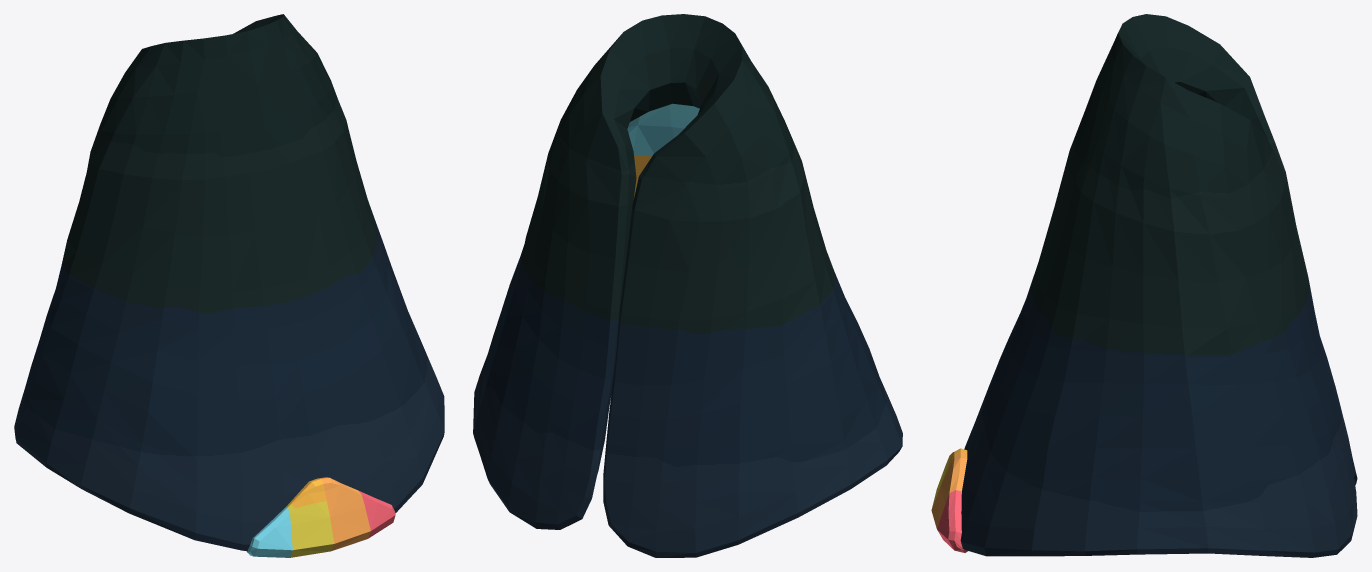
The model's file is CharSkyKid_Wing_DarkRainbow.glb.
3 renders of one model, left to right at view 1: azimuth 30°, elevation 25°; view 2: azimuth 150°, elevation 25°; view 3: azimuth 270°, elevation 25°, orthographic. The views are drawn at different scales.
Parts seen in each view (by area): view 1: CharSkyKid_Wing_DarkRainbow; view 2: CharSkyKid_Wing_DarkRainbow; view 3: CharSkyKid_Wing_DarkRainbow.
Part boxes in pixels (x1=…): CharSkyKid_Wing_DarkRainbow: x1=14, y1=14, x2=444, y2=557; CharSkyKid_Wing_DarkRainbow: x1=473, y1=14, x2=902, y2=557; CharSkyKid_Wing_DarkRainbow: x1=931, y1=14, x2=1357, y2=557.
Bounding box in the file's own units: 6.5 × 7.45 × 5.86.
Materials: 1 (1 with a texture image).
